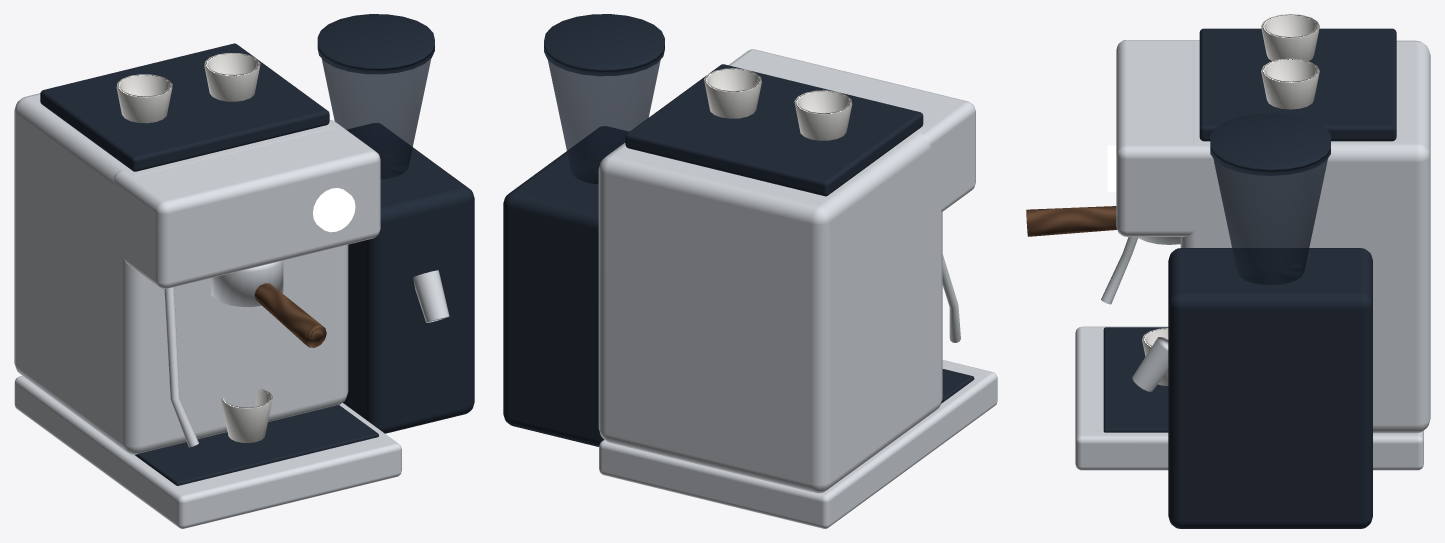
Rendered from obj_espresso_station.glb.
3 renders of one model, left to right at view 1: azimuth 30°, elevation 25°; view 2: azimuth 150°, elevation 25°; view 3: azimuth 270°, elevation 25°, orthographic. The views are drawn at different scales.
Visible parts, largest first — view 1: obj_espresso_station; view 2: obj_espresso_station; view 3: obj_espresso_station.
Part boxes in pixels (bbox=[...]): obj_espresso_station: bbox=[14, 14, 474, 528]; obj_espresso_station: bbox=[503, 14, 997, 528]; obj_espresso_station: bbox=[1026, 14, 1430, 528].
Bounding box in the file's own units: 0.3915 × 0.385 × 0.3842.
Materials: 6 (1 with a texture image).
